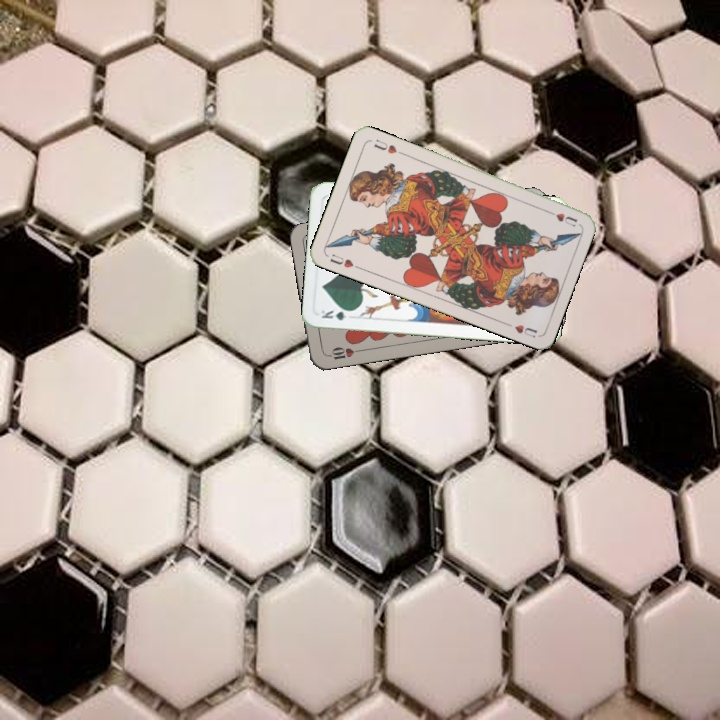GK: (317, 306, 357, 323)
H10: (323, 343, 363, 362)
HU: (542, 206, 580, 229), (326, 250, 363, 272)
